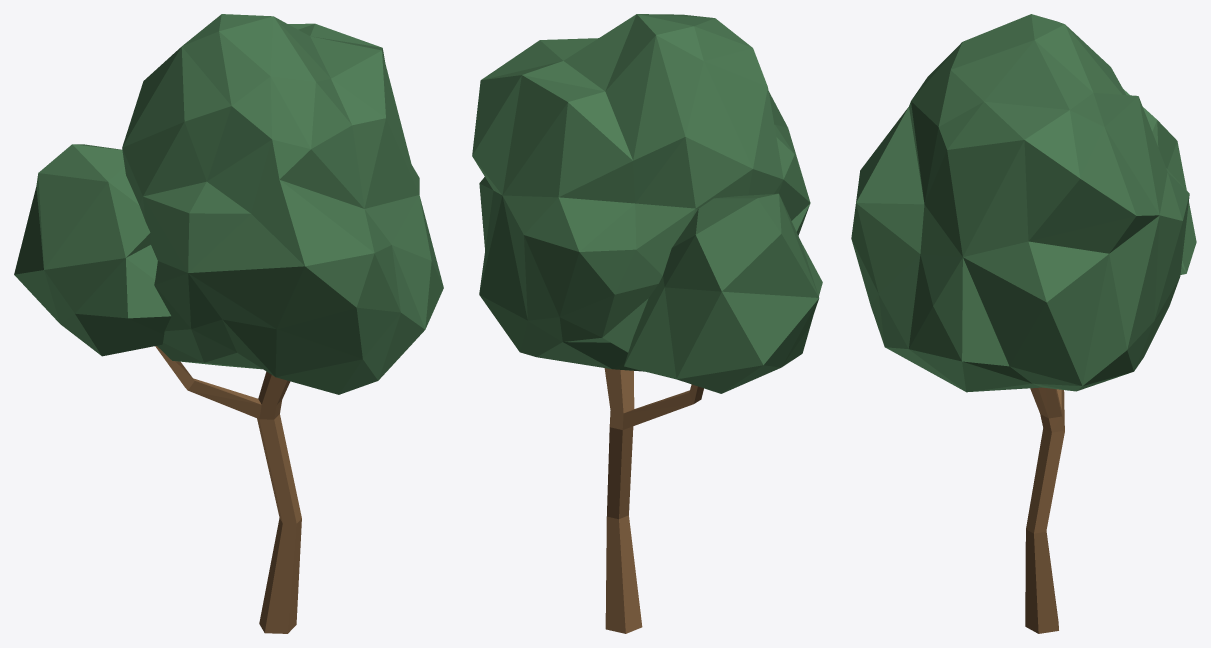
Rendered from SM_Env_Tree_03.FBX.
3 renders of one model, left to right at view 1: azimuth 30°, elevation 25°; view 2: azimuth 150°, elevation 25°; view 3: azimuth 270°, elevation 25°, orthographic. The views are drawn at different scales.
Parts seen in each view (by area): view 1: SM_Env_Tree_03; view 2: SM_Env_Tree_03; view 3: SM_Env_Tree_03.
Part boxes in pixels (x1,y1,x2,y2): SM_Env_Tree_03: (14, 14, 443, 633); SM_Env_Tree_03: (472, 14, 822, 633); SM_Env_Tree_03: (851, 14, 1196, 633).
Bounding box in the file's own units: 7.2 × 11.8 × 6.34.
